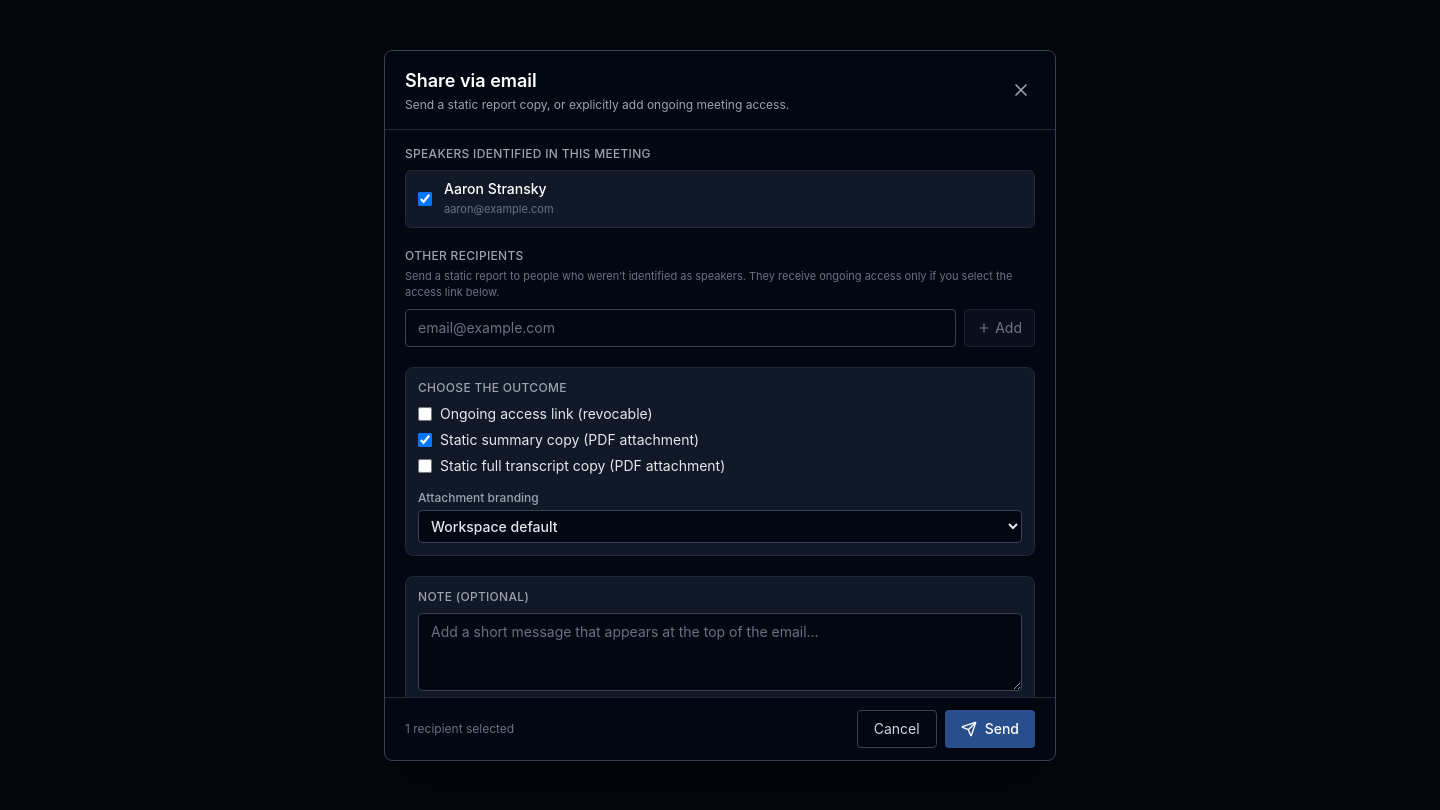
Test case: EmailAttendeesModal › joins speaker links to the session-scoped speaker library and sends the selected identity
Expected: the checkbox labelled "Aaron Stransky aaron@example.com" is checked, [418,192,432,206]
Expected: the checkbox labelled "Static summary copy (PDF attachment)" is checked, [418,432,432,446]
Click the button "Send" at (990, 728), box [945,710,1035,748]
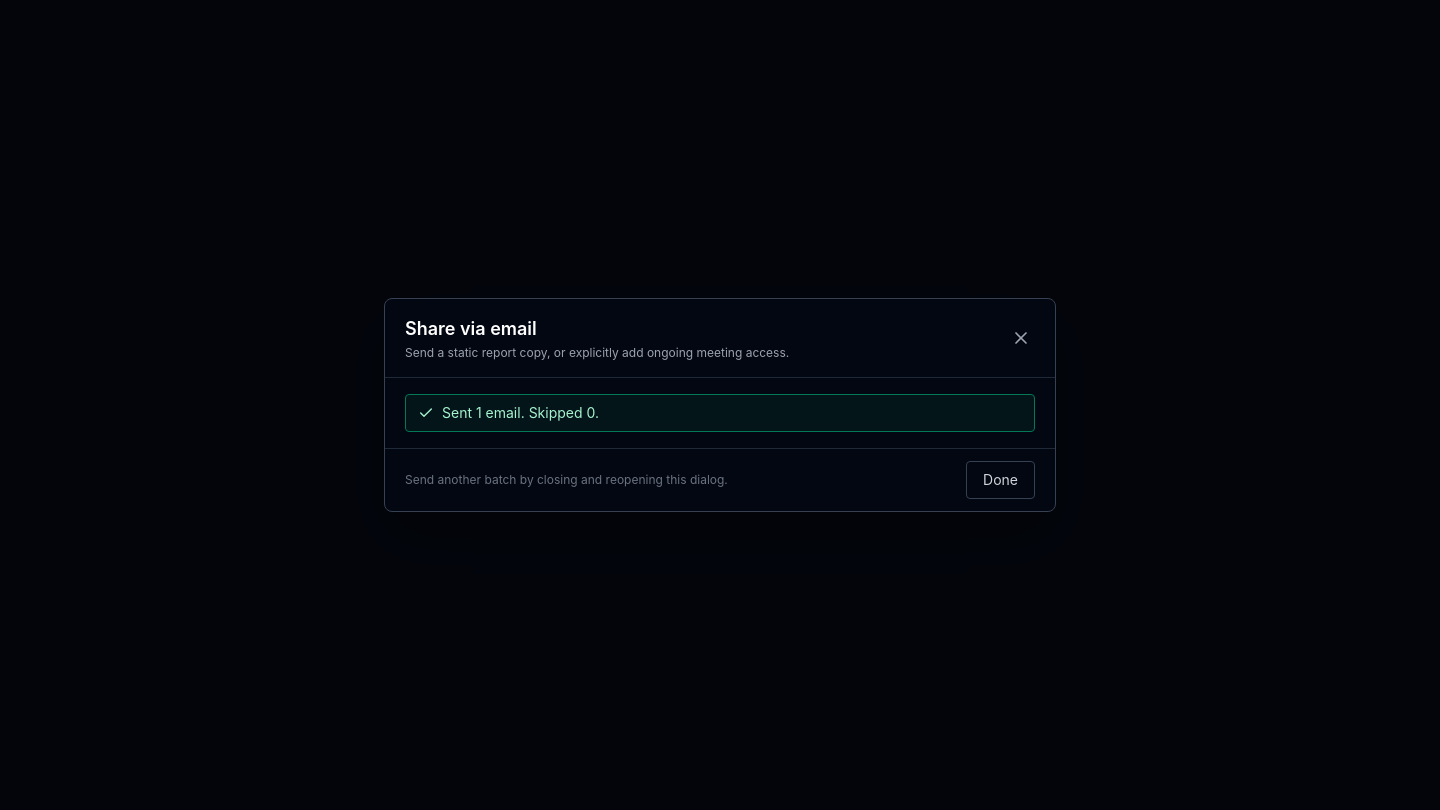
Expected: the text "Sent 1 email. Skipped 0." is shown, [418,404,599,421]
